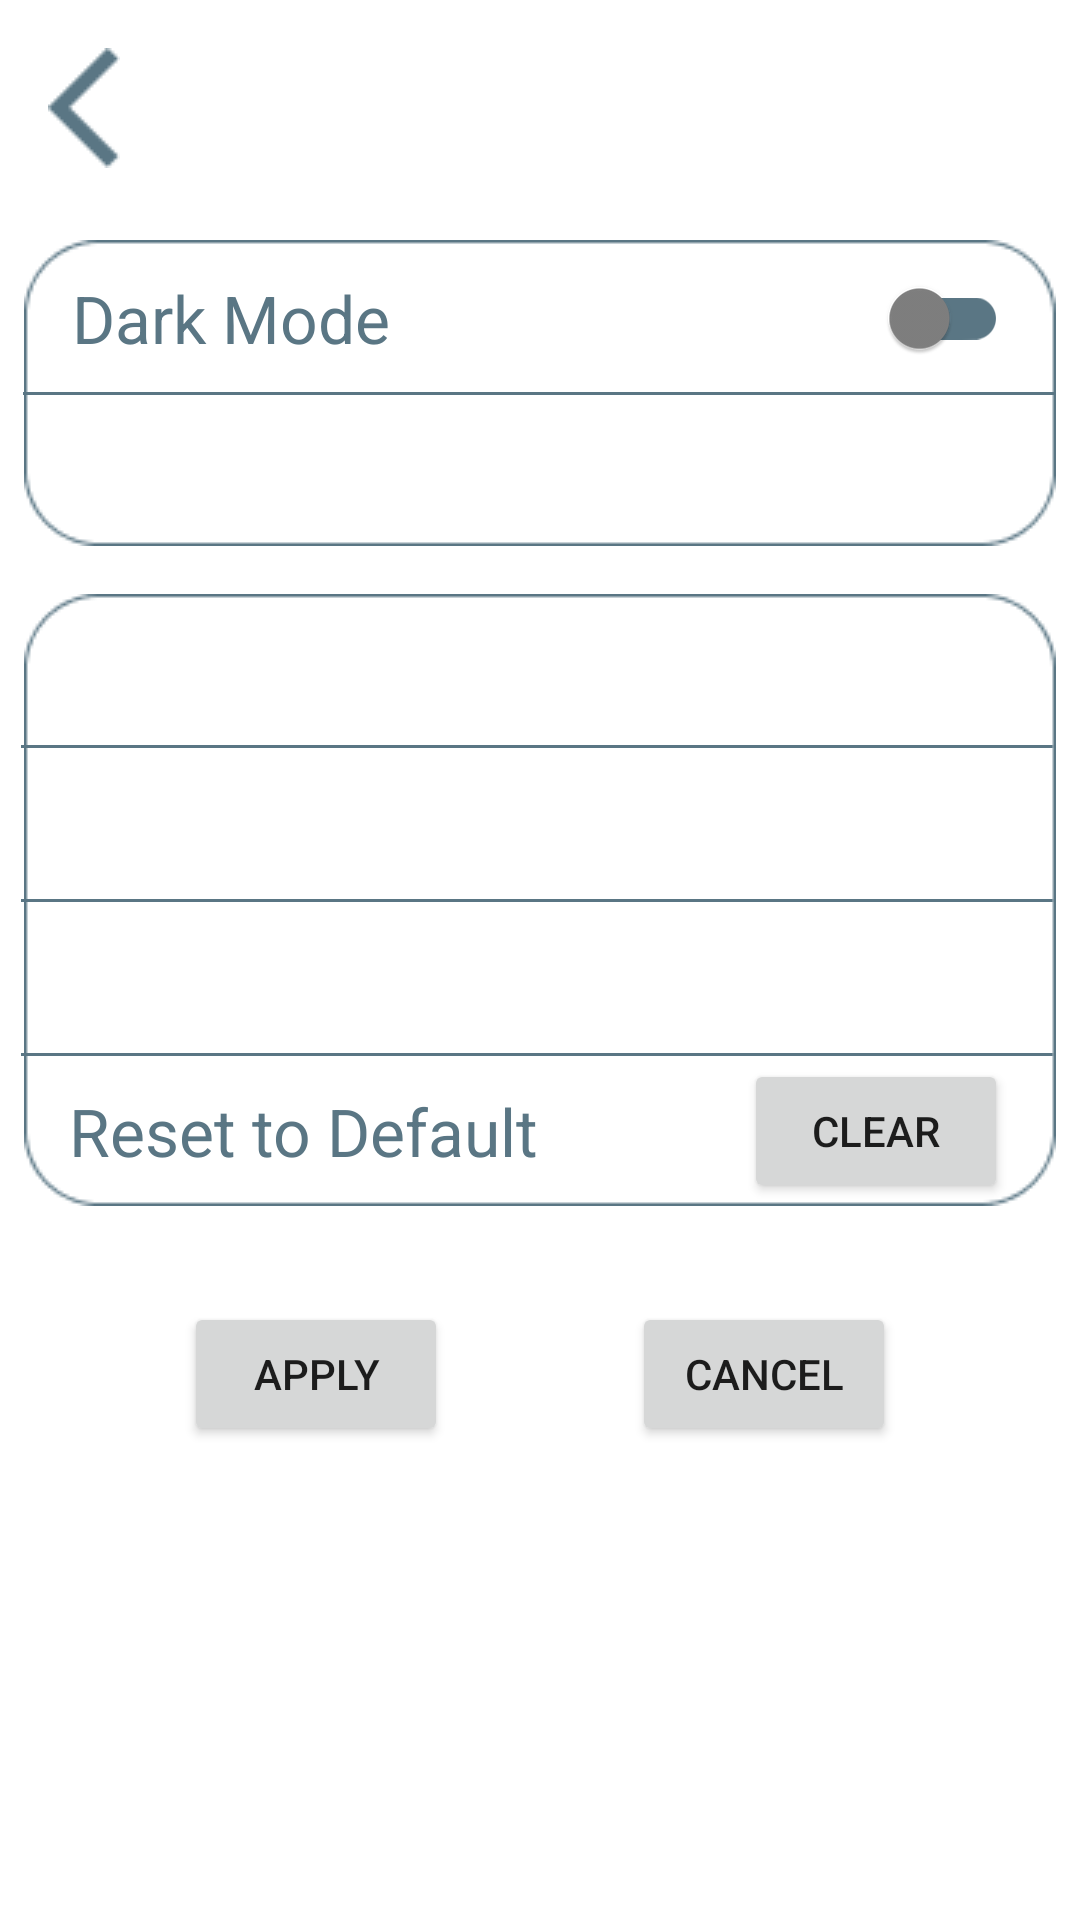

Screen size 1080 × 1920. Icon name, then its center in pixels as [x,y]:
leftvector: [84,108]
